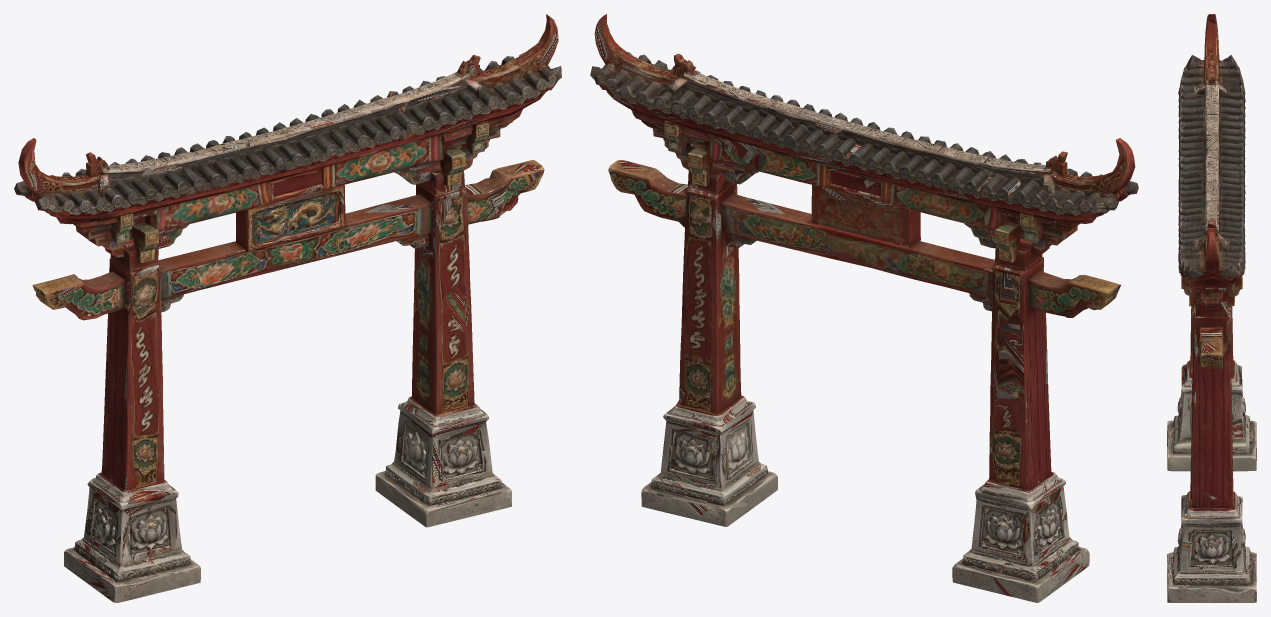
Rendered from prop_pagoda_gate.17f263d7.glb.
The picture shows the model from 3 angles, left to right: view 1: azimuth 30°, elevation 25°; view 2: azimuth 150°, elevation 25°; view 3: azimuth 270°, elevation 25°; orthographic projection. The views are drawn at different scales.
Parts seen in each view (by area): view 1: tripo_node_6556130f-7dc2-4130-b2c2-5ace005e32ff; view 2: tripo_node_6556130f-7dc2-4130-b2c2-5ace005e32ff; view 3: tripo_node_6556130f-7dc2-4130-b2c2-5ace005e32ff.
Boxes of the visible parts, box(x1,y1,x2,y2) form: tripo_node_6556130f-7dc2-4130-b2c2-5ace005e32ff: box(14, 14, 561, 602); tripo_node_6556130f-7dc2-4130-b2c2-5ace005e32ff: box(590, 14, 1138, 602); tripo_node_6556130f-7dc2-4130-b2c2-5ace005e32ff: box(1167, 14, 1256, 602).
Bounding box in the file's own units: 11.95 × 9.8 × 2.01.
1 material, 1 textured.
